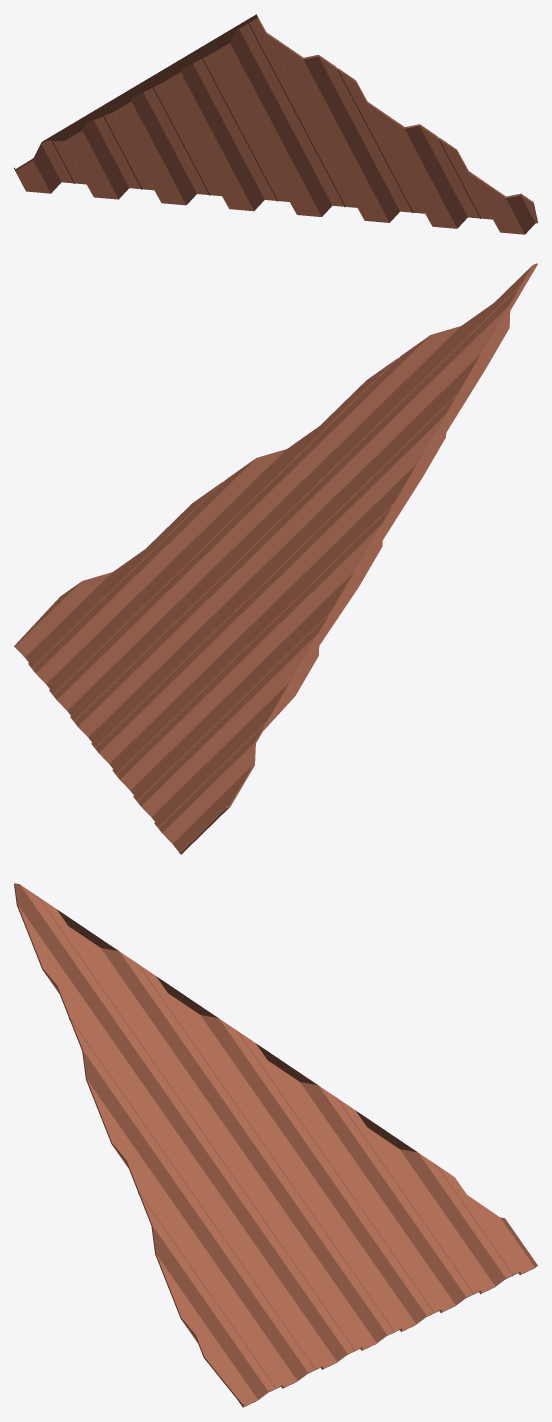
Rendered from SM_Timber_BayRoof_R.fbx.
The picture shows the model from 3 angles, top to bottom: view 1: azimuth 30°, elevation 25°; view 2: azimuth 150°, elevation 25°; view 3: azimuth 270°, elevation 25°; orthographic projection. The views are drawn at different scales.
Parts seen in each view (by area): view 1: SM_Timber_BayRoof_R; view 2: SM_Timber_BayRoof_R; view 3: SM_Timber_BayRoof_R.
Boxes of the visible parts, bbox=[...] form: SM_Timber_BayRoof_R: bbox=[14, 14, 537, 234]; SM_Timber_BayRoof_R: bbox=[14, 263, 537, 854]; SM_Timber_BayRoof_R: bbox=[14, 883, 537, 1407].
Size of the model in its own units: 131 by 125 by 167.
